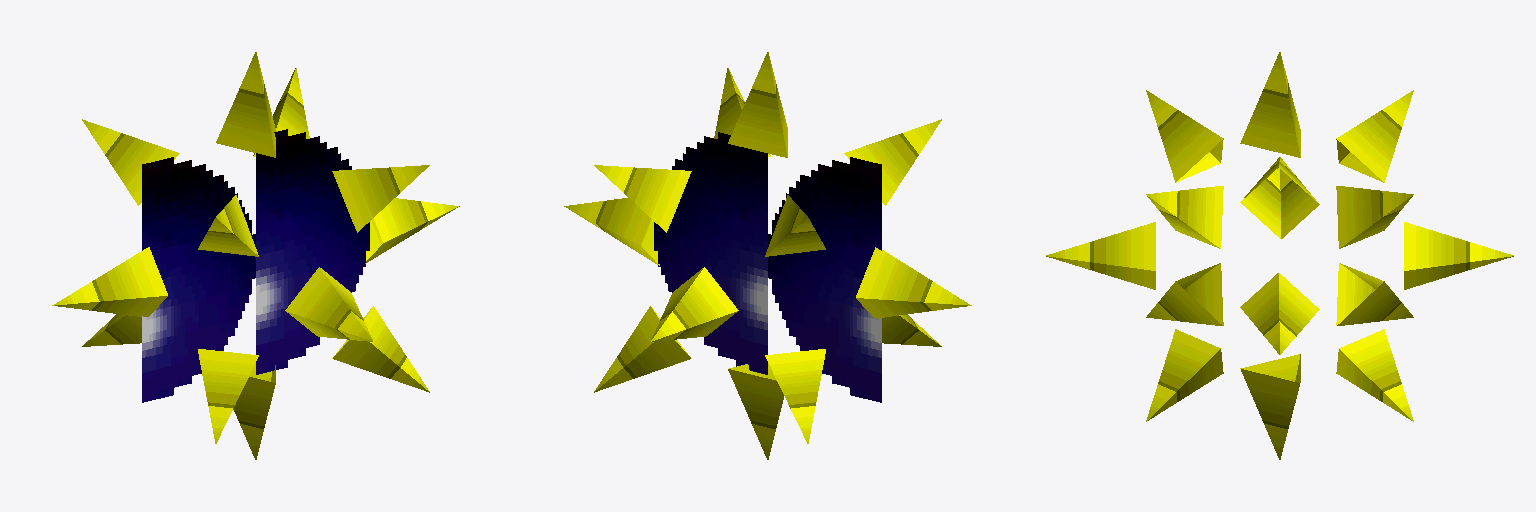
3 renders of one model, left to right at view 1: azimuth 30°, elevation 25°; view 2: azimuth 150°, elevation 25°; view 3: azimuth 270°, elevation 25°, orthographic.
Parts seen in each view (by area): view 1: koopa_bomb_model, toge; view 2: koopa_bomb_model, toge; view 3: toge, koopa_bomb_model.
Part boxes in pixels (x1,y1,x2,y2): koopa_bomb_model: (55,52,459,443); toge: (52,52,458,459); koopa_bomb_model: (565,132,940,443); toge: (564,52,971,459); toge: (1046,52,1513,420); koopa_bomb_model: (1046,52,1413,459).
Bounding box in the file's own units: 73.57 × 70.88 × 73.57.
Materials: 2 (2 with a texture image).